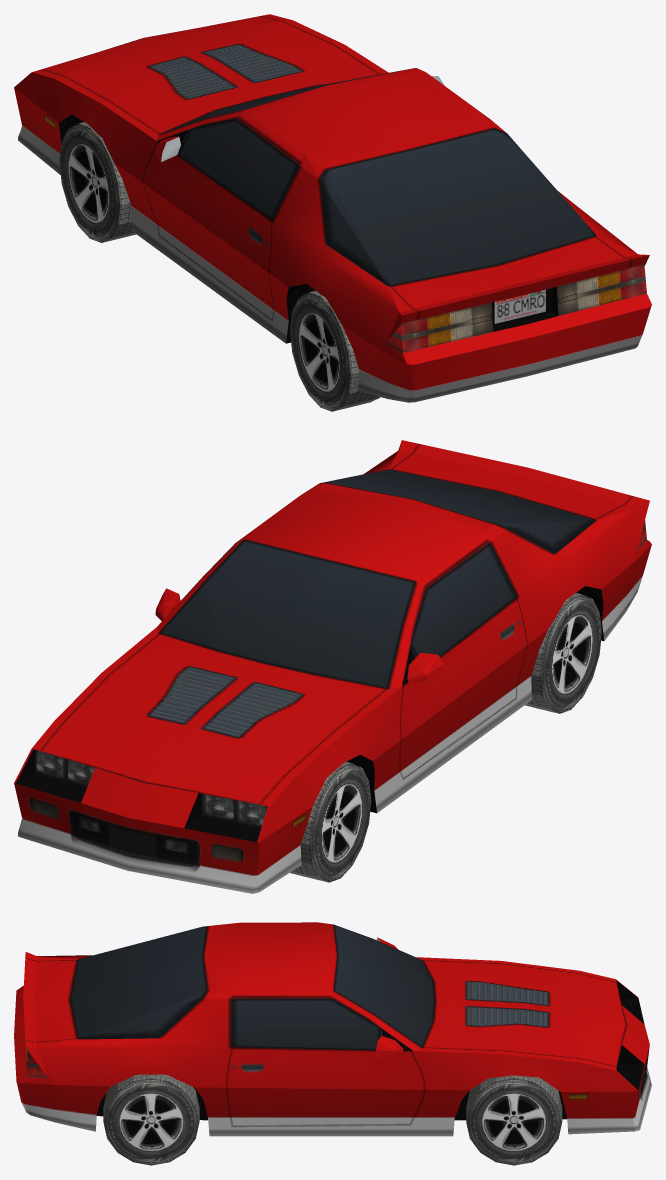
Rendered from Car.DAE.
3 renders of one model, top to bottom at view 1: azimuth 30°, elevation 25°; view 2: azimuth 150°, elevation 25°; view 3: azimuth 270°, elevation 25°, orthographic. The views are drawn at different scales.
Parts seen in each view (by area): view 1: Cmro; view 2: Cmro; view 3: Cmro.
Part boxes in pixels (left/top/right/bottom): Cmro: left=14, top=14, right=651, bottom=411; Cmro: left=14, top=440, right=651, bottom=893; Cmro: left=14, top=922, right=651, bottom=1165.
Size of the model in its own units: 156 by 386 by 109.
1 material, 1 textured.
